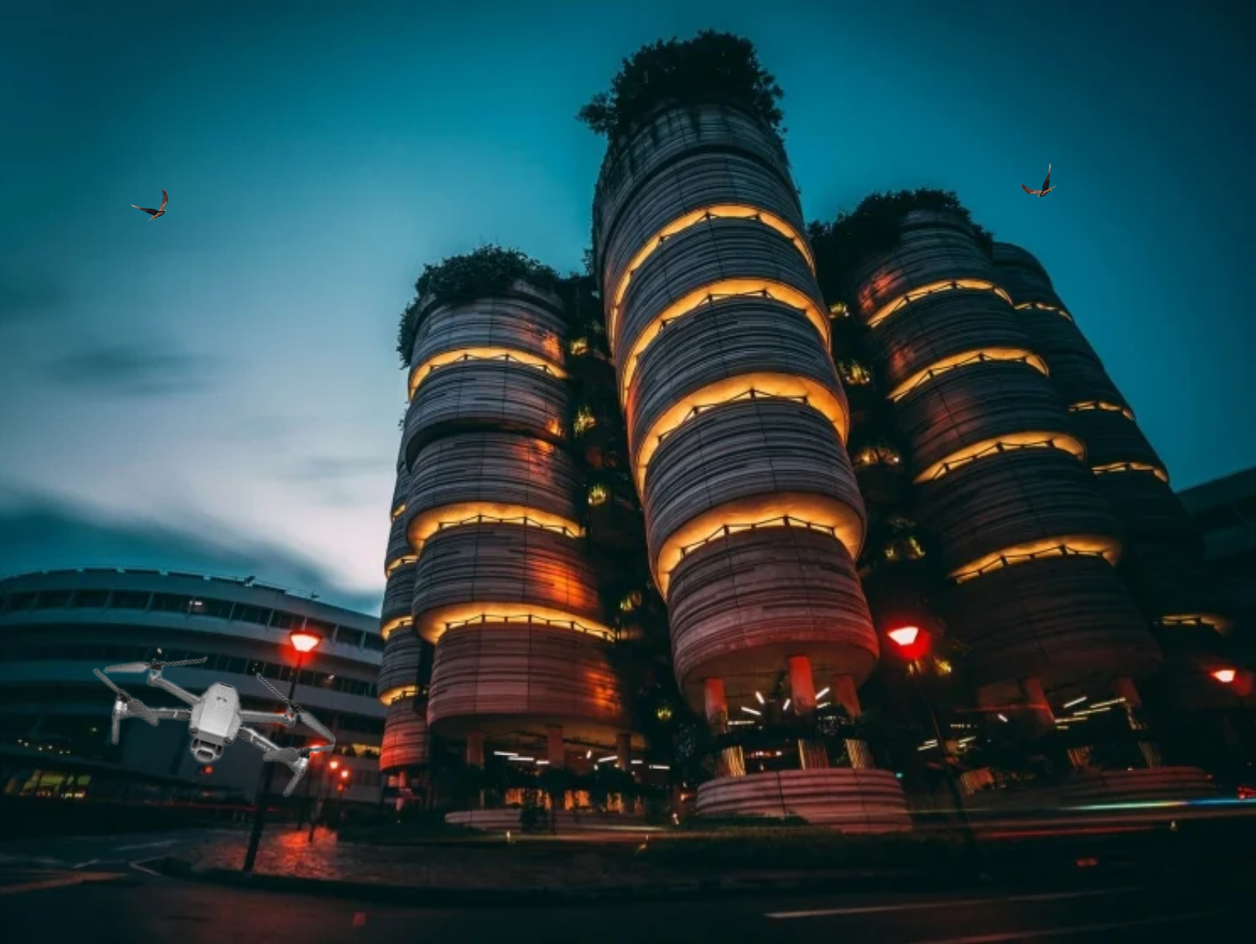drone_other: (90, 652, 342, 801)
